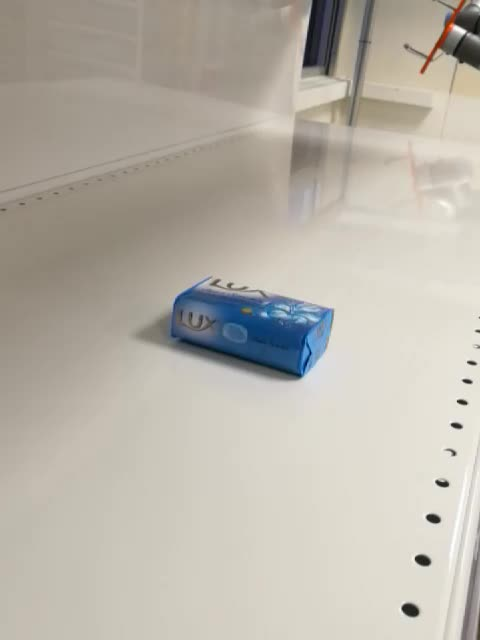soap: (168, 275, 335, 379)
